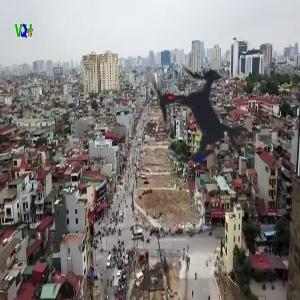drone: (105, 27, 286, 208)
